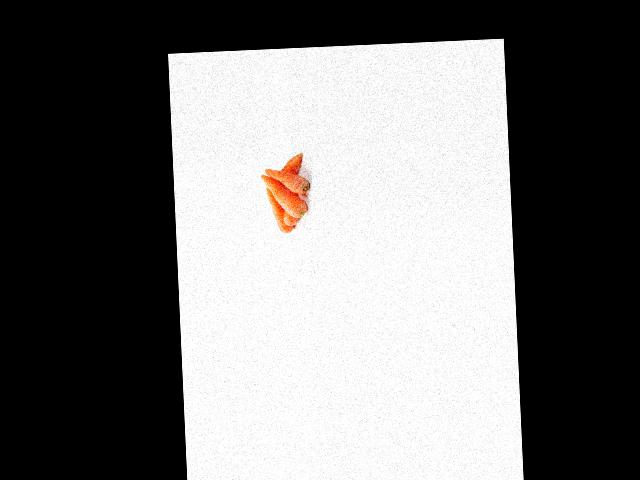carrot: (266, 165, 310, 196)
